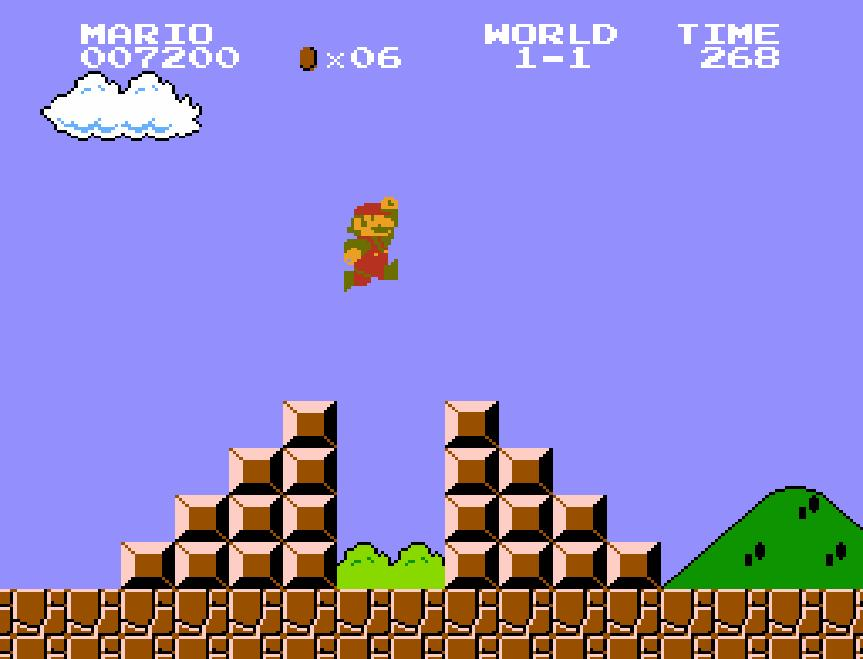big_mario: (342, 195, 400, 293)
